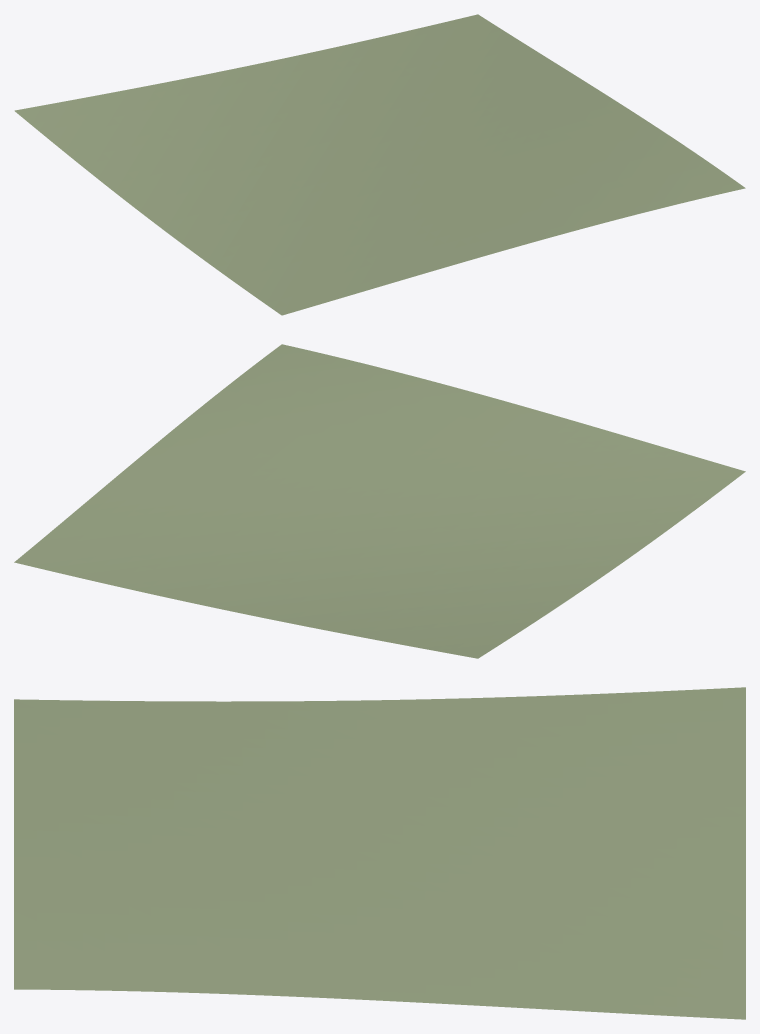
The model's file is alpine-2-0.glb.
The picture shows the model from 3 angles, top to bottom: view 1: azimuth 30°, elevation 25°; view 2: azimuth 150°, elevation 25°; view 3: azimuth 270°, elevation 25°; orthographic projection. The views are drawn at different scales.
Parts seen in each view (by area): view 1: alpine-2-0; view 2: alpine-2-0; view 3: alpine-2-0.
Boxes of the visible parts, x1,y1,x2,y2 form: alpine-2-0: (14, 14, 745, 315); alpine-2-0: (14, 344, 745, 658); alpine-2-0: (14, 687, 745, 1019).
Bounding box in the file's own units: 256 × 12.01 × 256.
